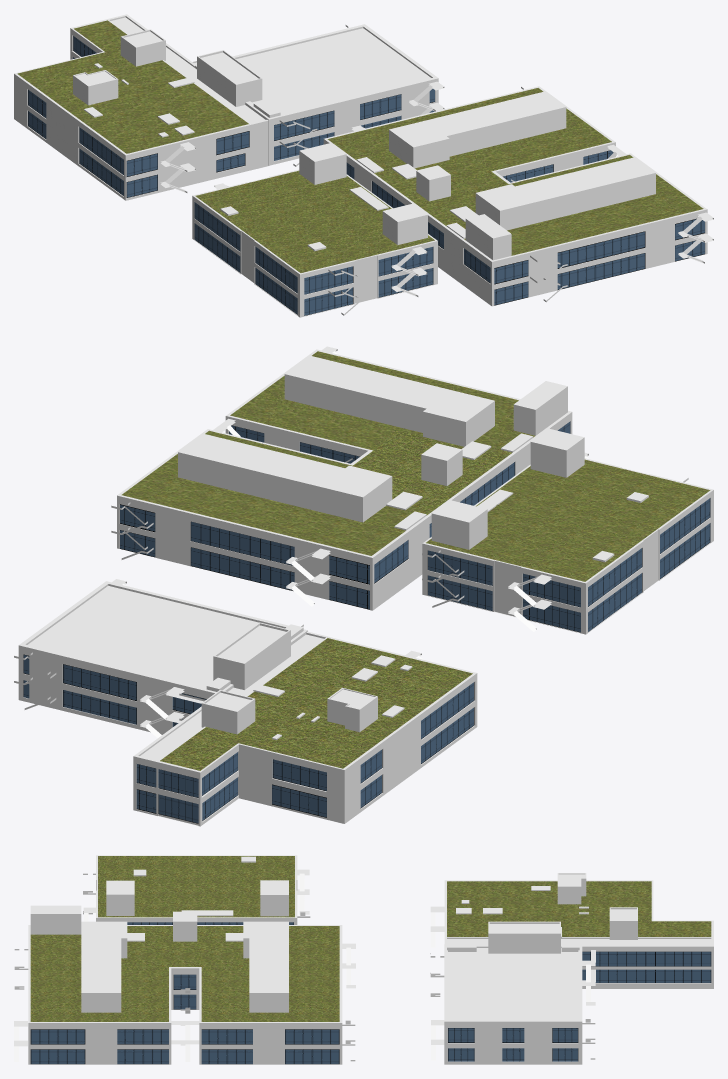
File: CSL-Lengnau_simplified-Extension_1_025.gltf
3 views of the same model, one above another, from view 1: azimuth 30°, elevation 25°; view 2: azimuth 150°, elevation 25°; view 3: azimuth 270°, elevation 25° (orthographic). The views are drawn at different scales.
Visible parts, largest first — view 1: simplified_Extension_1:PIV; view 2: simplified_Extension_1:PIV; view 3: simplified_Extension_1:PIV.
Part boxes in pixels (x1,y1,x2,y2): simplified_Extension_1:PIV: (14,14,713,317); simplified_Extension_1:PIV: (14,346,713,826); simplified_Extension_1:PIV: (14,855,713,1064).
Size of the model in its own units: 52.43 by 12.09 by 91.78.
Materials: 6 (2 with a texture image).
